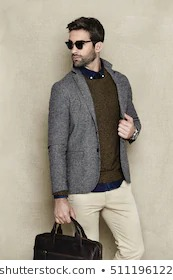F_M_suit jacket: (46, 56, 144, 195)
